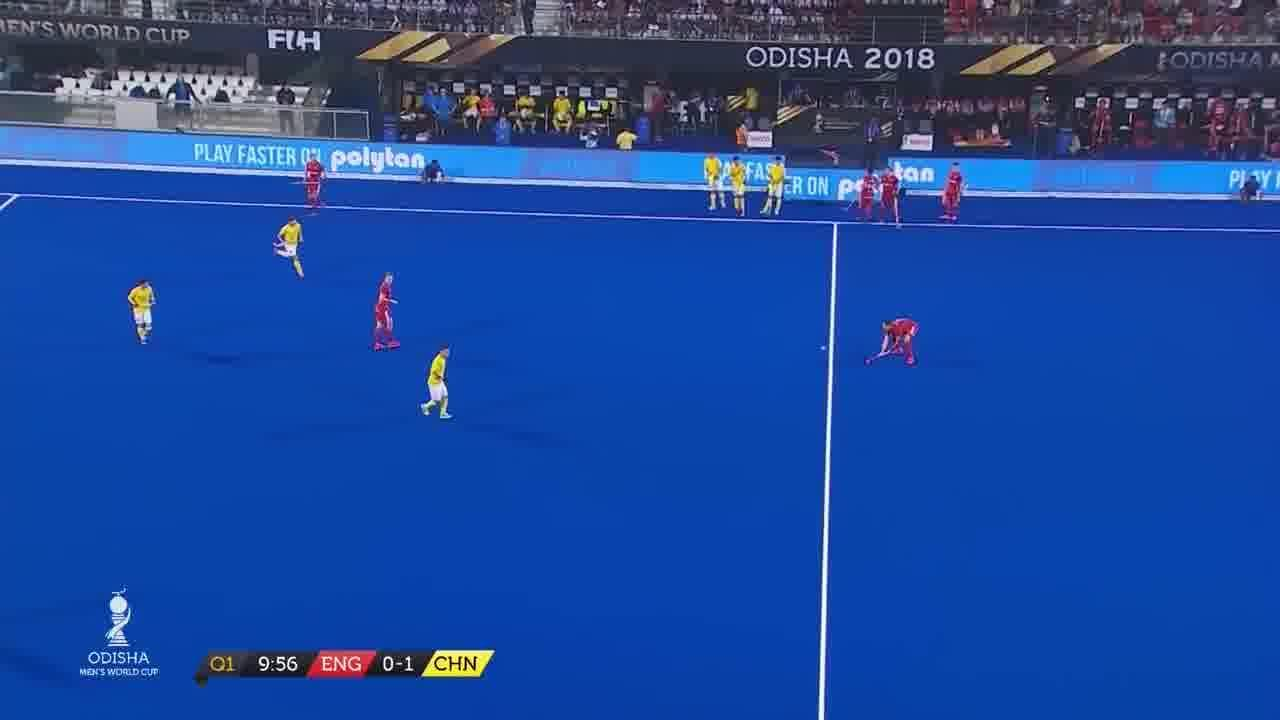ball: (820, 344, 824, 354)
